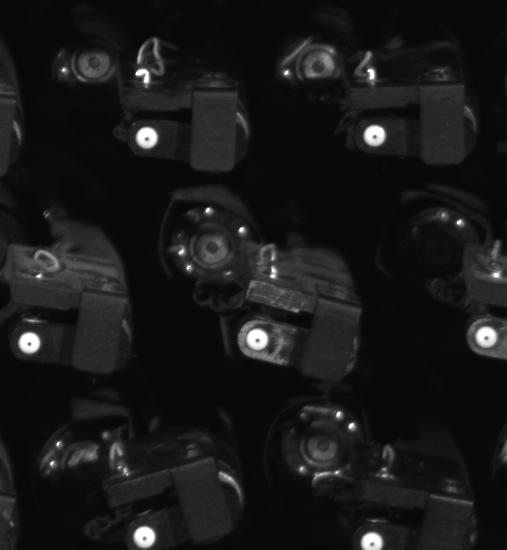fiber: (239, 322, 279, 358), (469, 321, 507, 355), (359, 119, 391, 153), (128, 523, 167, 550), (351, 526, 394, 550), (14, 330, 50, 358), (132, 123, 163, 153)
